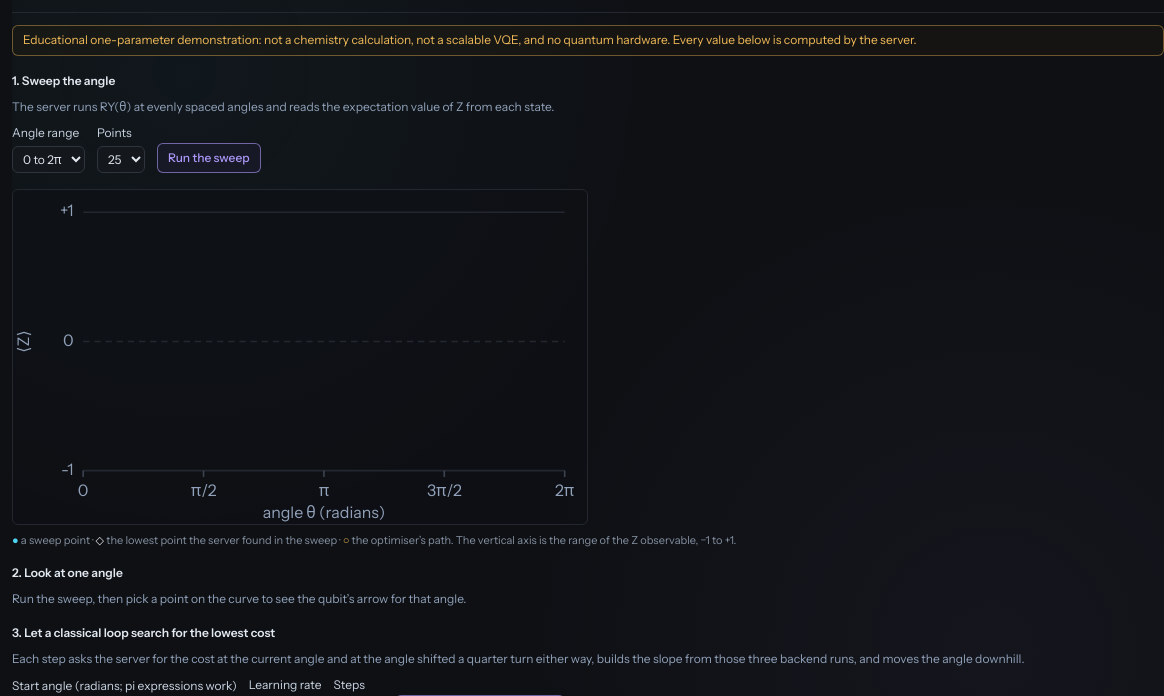
the sweep › a refusal shows an error and NO curve
What coordinates should you click on to do the following:
click the button "Run the sweep"
I would click on:
 (209, 158)
Its box is [157,142,261,172].
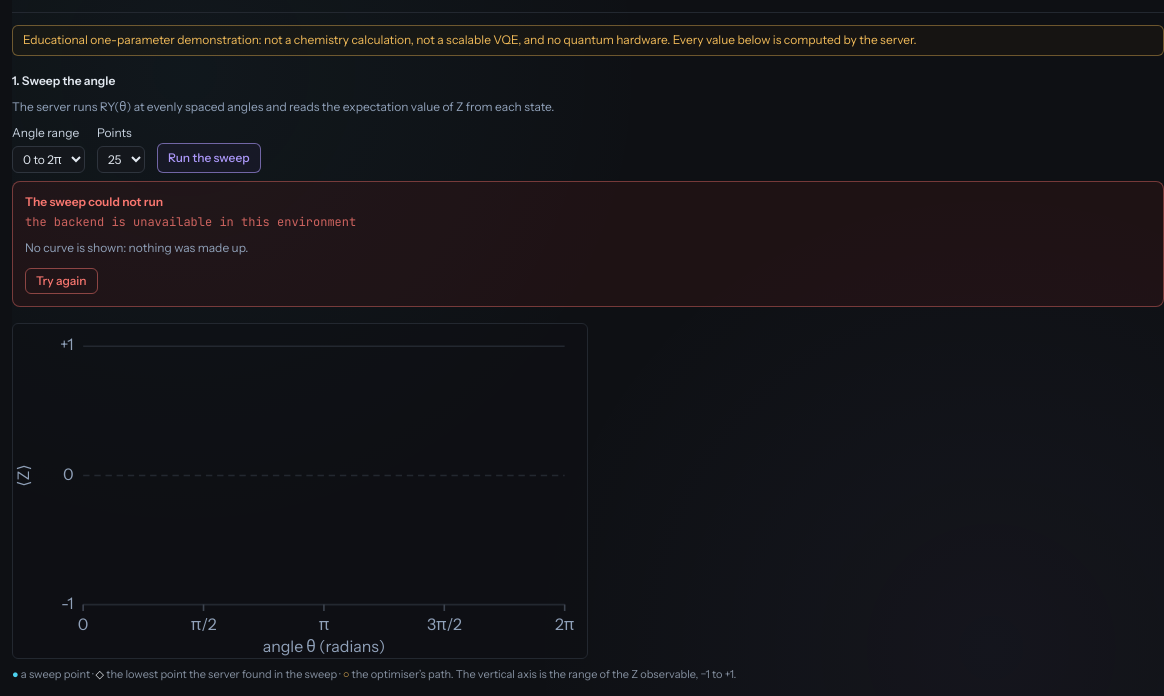
Result: the text "The sweep could not run" is shown at [25,194,163,208]
Result: the text "the backend is unavailable in this environment" is shown at [25,214,356,230]
